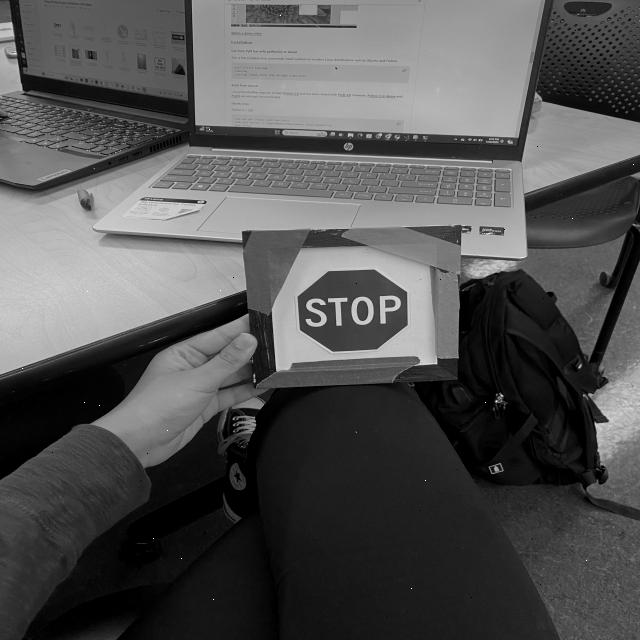stop: (294, 262, 410, 354)
